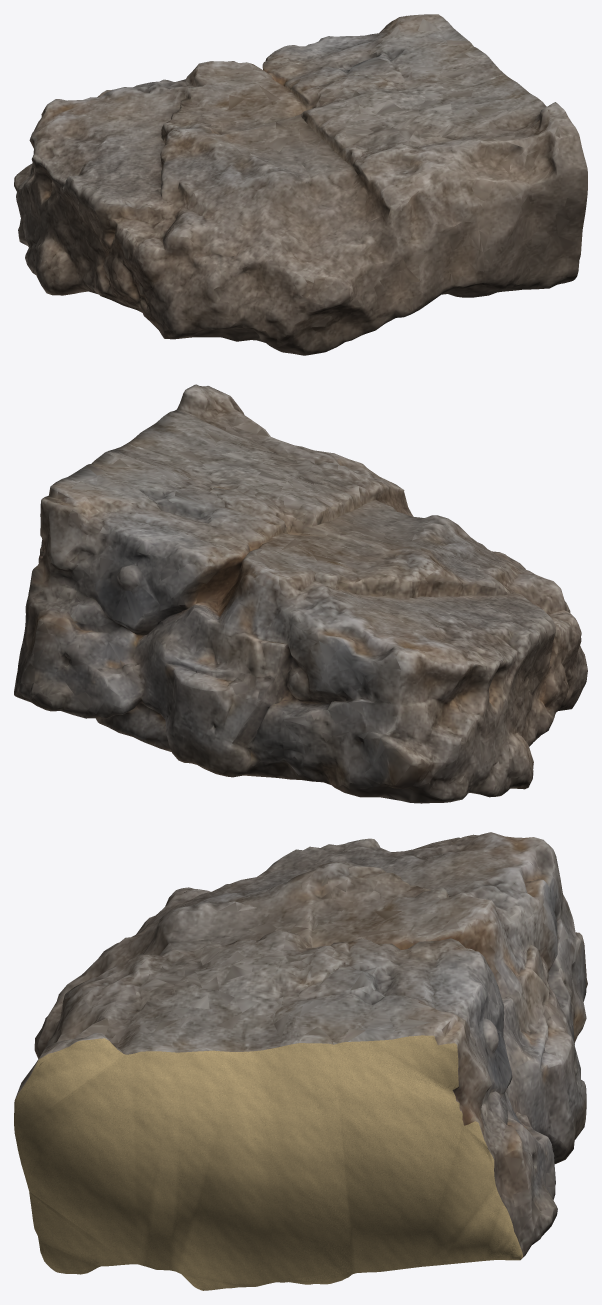
Rendered from shellstone-v1-worked-lod0.gltf.
3 views of the same model, one above another, from view 1: azimuth 30°, elevation 25°; view 2: azimuth 150°, elevation 25°; view 3: azimuth 270°, elevation 25° (orthographic). The views are drawn at different scales.
Visible parts, largest first — view 1: shellstone-v1-worked-lod0; view 2: shellstone-v1-worked-lod0; view 3: shellstone-v1-worked-lod0.
Boxes of the visible parts, left/top/right/bottom form: shellstone-v1-worked-lod0: left=14, top=14, right=587, bottom=355; shellstone-v1-worked-lod0: left=14, top=384, right=587, bottom=803; shellstone-v1-worked-lod0: left=14, top=832, right=587, bottom=1290.
Size of the model in its own units: 1.2 by 0.5247 by 1.04.
Materials: 2 (2 with a texture image).
